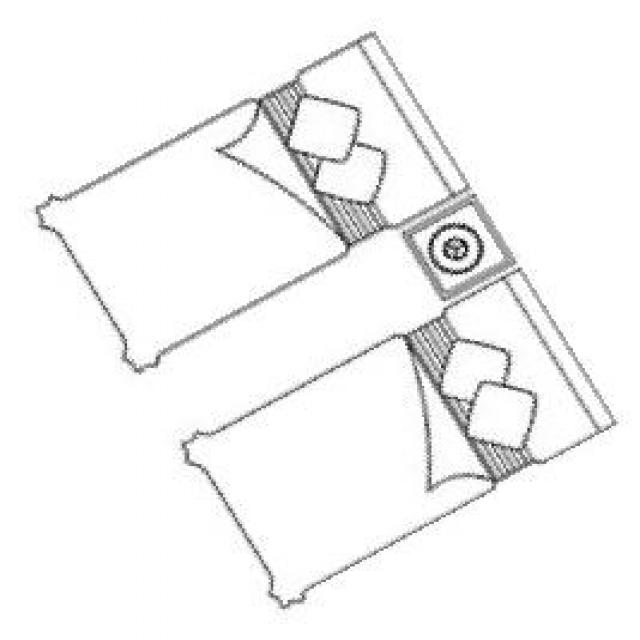bed: (34, 31, 616, 600)
